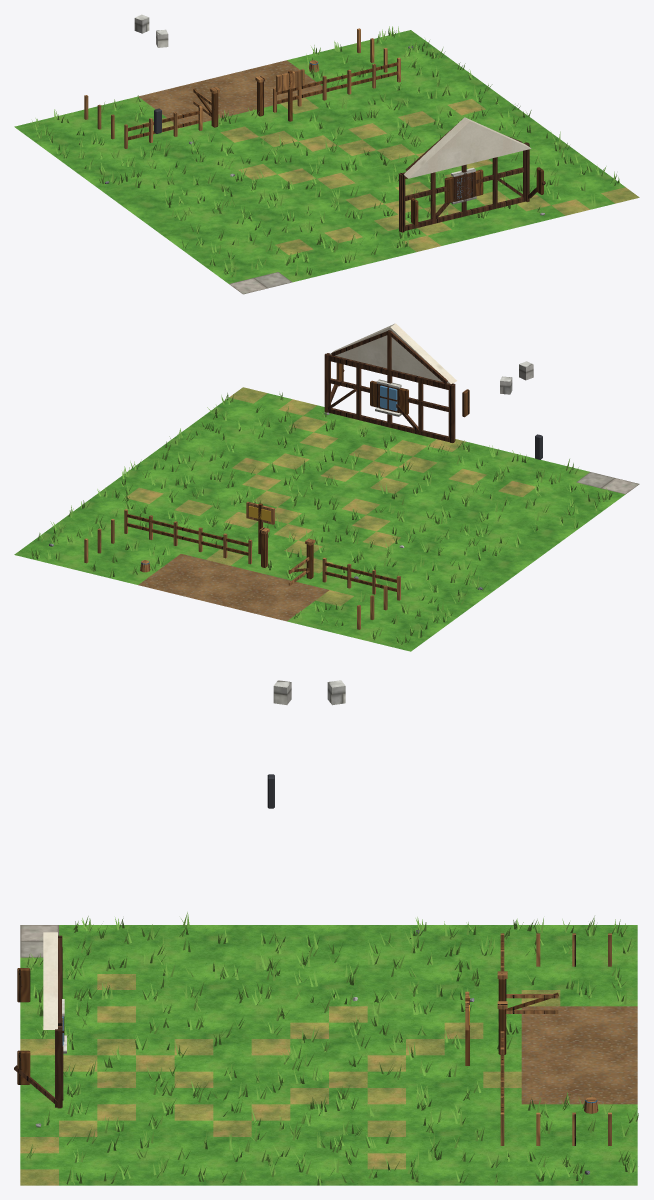
Rendered from chunk_7_4.glb.
The picture shows the model from 3 angles, top to bottom: view 1: azimuth 30°, elevation 25°; view 2: azimuth 150°, elevation 25°; view 3: azimuth 270°, elevation 25°; orthographic projection. The views are drawn at different scales.
Parts seen in each view (by area): view 1: chunk_7_4; view 2: chunk_7_4; view 3: chunk_7_4.
Part boxes in pixels (x1,y1,x2,y2): chunk_7_4: [14, 14, 639, 294]; chunk_7_4: [14, 323, 639, 651]; chunk_7_4: [14, 680, 638, 1185].
Bounding box in the file's own units: 16.12 × 7.25 × 16.23.
17 materials, 13 textured.
